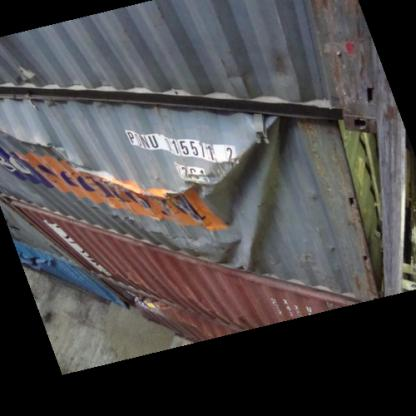Damage: (0, 126, 240, 267), (184, 118, 304, 240)
